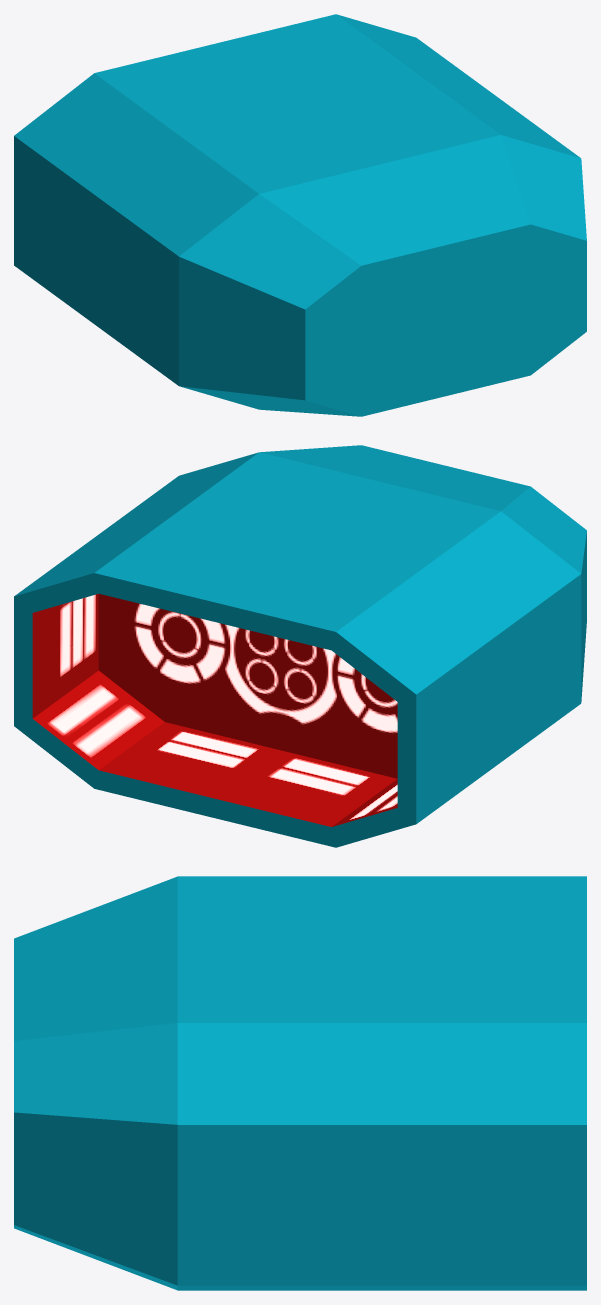
Rendered from stern_m_1.fbx.
3 views of the same model, one above another, from view 1: azimuth 30°, elevation 25°; view 2: azimuth 150°, elevation 25°; view 3: azimuth 270°, elevation 25° (orthographic). The views are drawn at different scales.
Parts seen in each view (by area): view 1: stern_m_1; view 2: stern_m_1; view 3: stern_m_1.
Part boxes in pixels (<box>): stern_m_1: <box>14,14,586,416</box>; stern_m_1: <box>14,445,586,847</box>; stern_m_1: <box>14,876,586,1290</box>.
Bounding box in the file's own units: 28.17 × 14.43 × 28.
